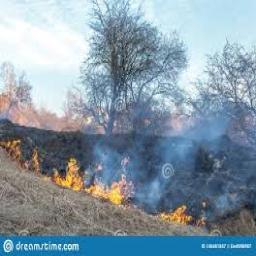Low smoke: (149, 136, 242, 195)
Medium fire: (2, 85, 186, 134)
Small fire: (51, 154, 138, 204), (153, 199, 217, 230), (1, 135, 46, 175)
